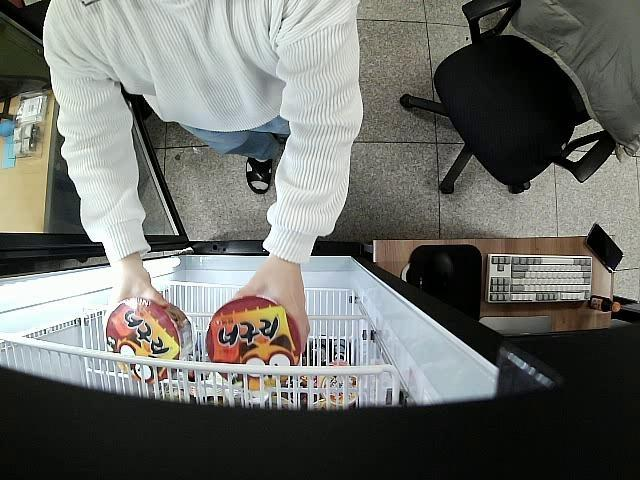05_nuguri_L: (206, 296, 302, 393), (105, 296, 196, 384)
